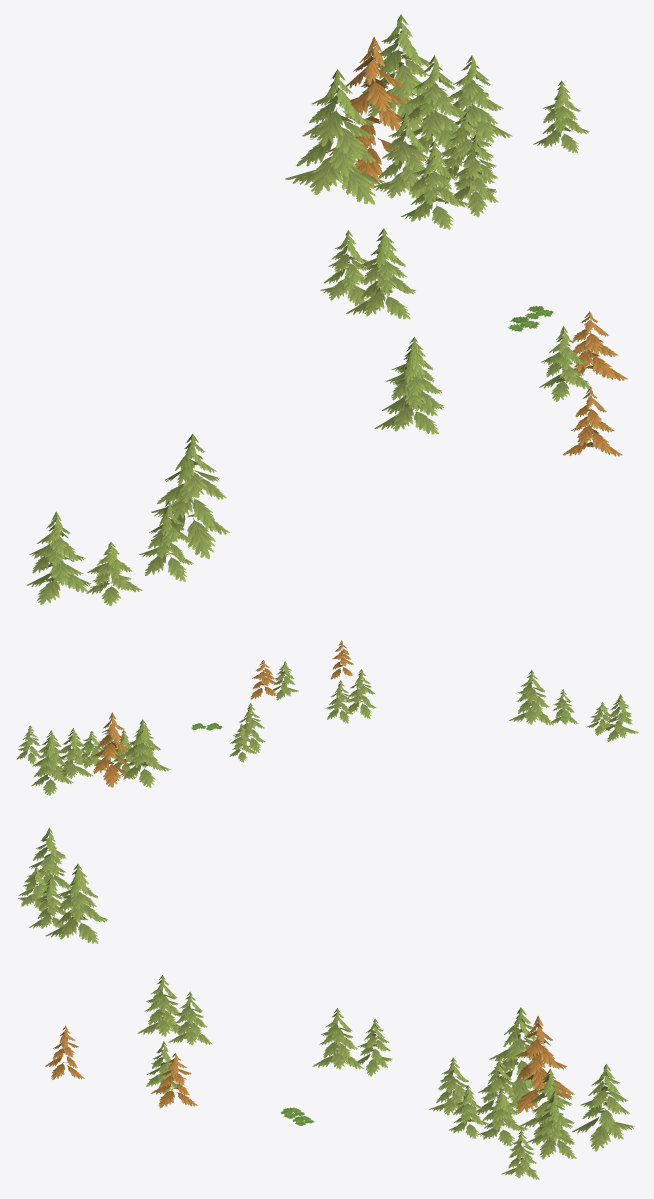
The model's file is zhibei19_1.fbx.
3 renders of one model, top to bottom at view 1: azimuth 30°, elevation 25°; view 2: azimuth 150°, elevation 25°; view 3: azimuth 270°, elevation 25°, orthographic. The views are drawn at different scales.
Parts seen in each view (by area): view 1: zhibei19_1; view 2: zhibei19_1; view 3: zhibei19_1.
Part boxes in pixels (bbox=[...]): zhibei19_1: bbox=[26, 14, 627, 605]; zhibei19_1: bbox=[16, 640, 638, 795]; zhibei19_1: bbox=[18, 827, 634, 1179].
Size of the model in its own units: 6337 by 1030 by 5439.
